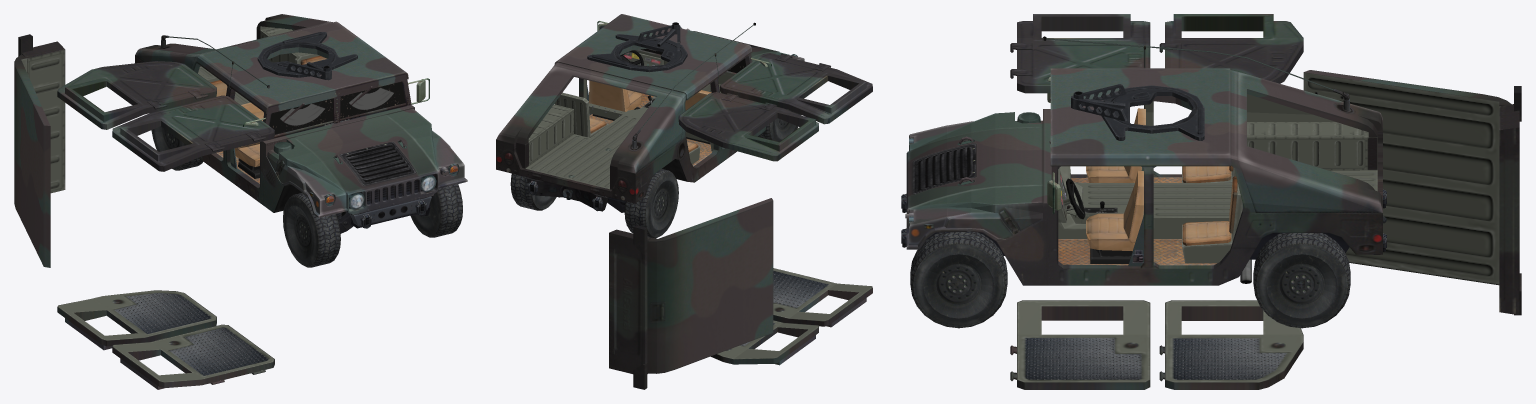
The model's file is Humvee.fbx.
3 renders of one model, left to right at view 1: azimuth 30°, elevation 25°; view 2: azimuth 150°, elevation 25°; view 3: azimuth 270°, elevation 25°, orthographic. The views are drawn at different scales.
Parts seen in each view (by area): view 1: HMMWV, $$$DUMMY.Door_Front, $$$DUMMY.Door_Back_, $$$DUMMY.Door_Fron0, $$$DUMMY.Door_Back0, $$$DUMMY.Door_Back2, $$$DUMMY.Door_Back1, Object02, Object04, Glass_Fron, Object07, Object16; view 2: HMMWV, $$$DUMMY.Door_Back2, $$$DUMMY.Door_Back1, $$$DUMMY.Door_Front, $$$DUMMY.Door_Back_, $$$DUMMY.Door_Fron0, Object16, $$$DUMMY.Door_Back0, Object01, Object02; view 3: HMMWV, $$$DUMMY.Door_Back2, $$$DUMMY.Door_Fron0, $$$DUMMY.Door_Back0, Object04, Object01, $$$DUMMY.Door_Front, $$$DUMMY.Door_Back_, $$$DUMMY.Door_Back1.
Part boxes in pixels (left/top/right/bottom): HMMWV: left=135, top=14, right=467, bottom=233; $$$DUMMY.Door_Front: left=112, top=95, right=274, bottom=171; $$$DUMMY.Door_Back_: left=57, top=61, right=216, bottom=129; $$$DUMMY.Door_Fron0: left=112, top=324, right=274, bottom=389; $$$DUMMY.Door_Back0: left=57, top=290, right=216, bottom=350; $$$DUMMY.Door_Back2: left=14, top=54, right=50, bottom=267; $$$DUMMY.Door_Back1: left=18, top=34, right=65, bottom=193; Object02: left=283, top=193, right=340, bottom=267; Object04: left=410, top=184, right=462, bottom=237; Glass_Fron: left=340, top=81, right=405, bottom=118; Object07: left=269, top=98, right=332, bottom=134; Object16: left=151, top=126, right=203, bottom=170; HMMWV: left=496, top=14, right=804, bottom=212; $$$DUMMY.Door_Back2: left=647, top=198, right=773, bottom=373; $$$DUMMY.Door_Back1: left=609, top=225, right=651, bottom=389; $$$DUMMY.Door_Front: left=720, top=53, right=872, bottom=124; $$$DUMMY.Door_Back_: left=678, top=92, right=818, bottom=161; $$$DUMMY.Door_Fron0: left=773, top=268, right=872, bottom=327; Object16: left=624, top=169, right=678, bottom=238; $$$DUMMY.Door_Back0: left=710, top=320, right=818, bottom=365; Object01: left=510, top=173, right=556, bottom=210; Object02: left=758, top=109, right=801, bottom=141; HMMWV: left=901, top=36, right=1386, bottom=285; $$$DUMMY.Door_Back2: left=1303, top=70, right=1511, bottom=285; $$$DUMMY.Door_Fron0: left=1010, top=300, right=1150, bottom=389; $$$DUMMY.Door_Back0: left=1159, top=300, right=1303, bottom=389; Object04: left=910, top=231, right=1007, bottom=328; Object01: left=1253, top=233, right=1350, bottom=328; $$$DUMMY.Door_Front: left=1010, top=14, right=1150, bottom=93; $$$DUMMY.Door_Back_: left=1159, top=14, right=1303, bottom=83; $$$DUMMY.Door_Back1: left=1499, top=86, right=1521, bottom=315.
Bounding box in the file's own units: 414 × 377 × 598.
